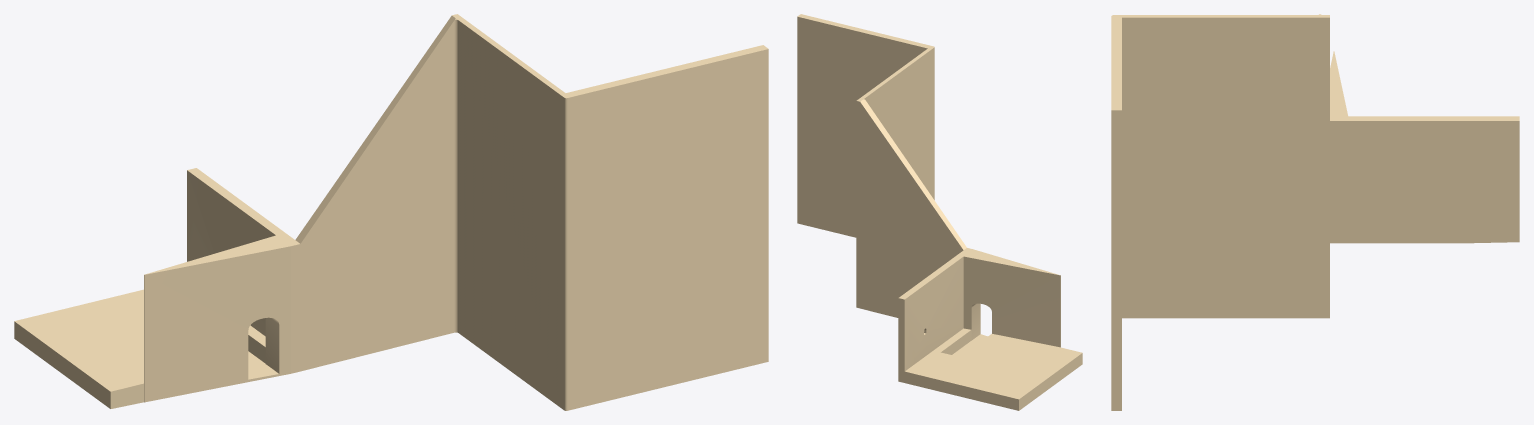
Rendered from dock.fbx.
The picture shows the model from 3 angles, left to right: view 1: azimuth 30°, elevation 25°; view 2: azimuth 150°, elevation 25°; view 3: azimuth 270°, elevation 25°; orthographic projection. The views are drawn at different scales.
Visible parts, largest first — view 1: dock; view 2: dock; view 3: dock.
Part boxes in pixels (box(x1,y1,x2,y2)): dock: box(14, 14, 768, 410); dock: box(797, 14, 1082, 410); dock: box(1111, 14, 1519, 410).
Size of the model in its own units: 19.66 by 10.88 by 13.33.
